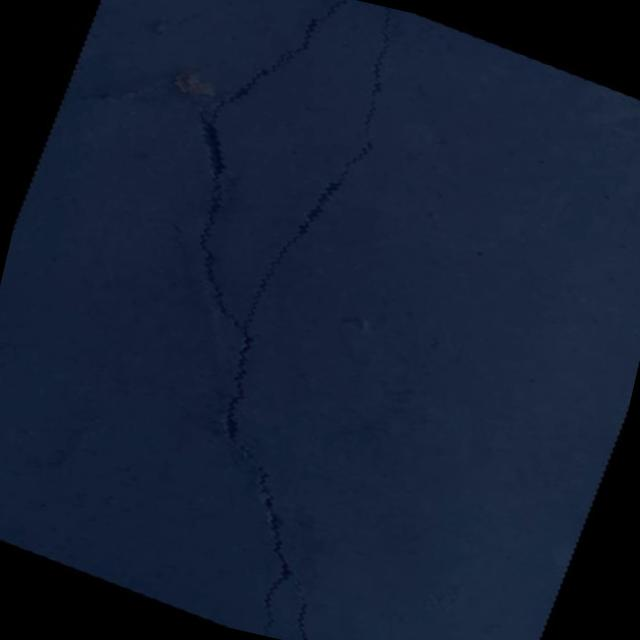crack: (25, 0, 538, 640)
